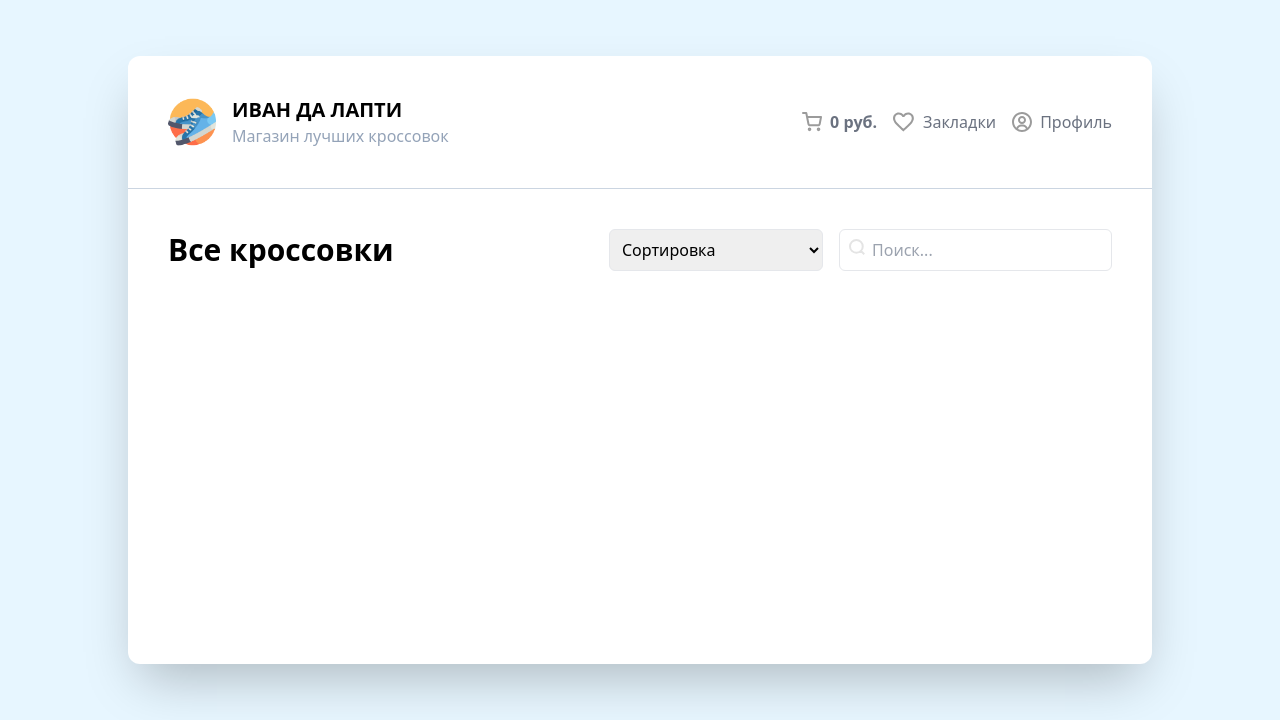
Test: Проверка работы корзины › Отображение пустой корзины и её закрытие
The width and height of the screenshot is (1280, 720).
Click the text with test id "header-price-sum". click: (854, 122)
box: x1=830 y1=110 x2=877 y2=134
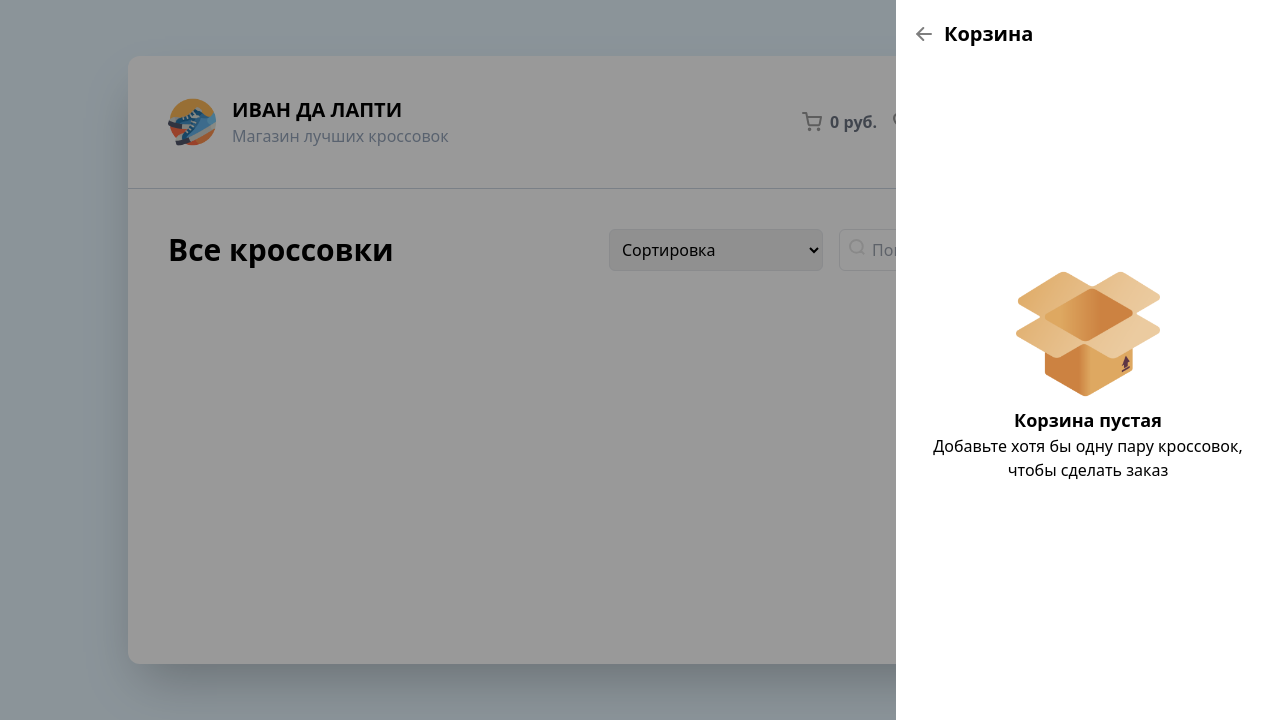
Now the element with test id "empty-cart" is shown, box x1=933 y1=262 x2=1243 y2=481
Click the icon with test id "close-cart". click: (924, 34)
box: x1=916 y1=27 x2=932 y2=41
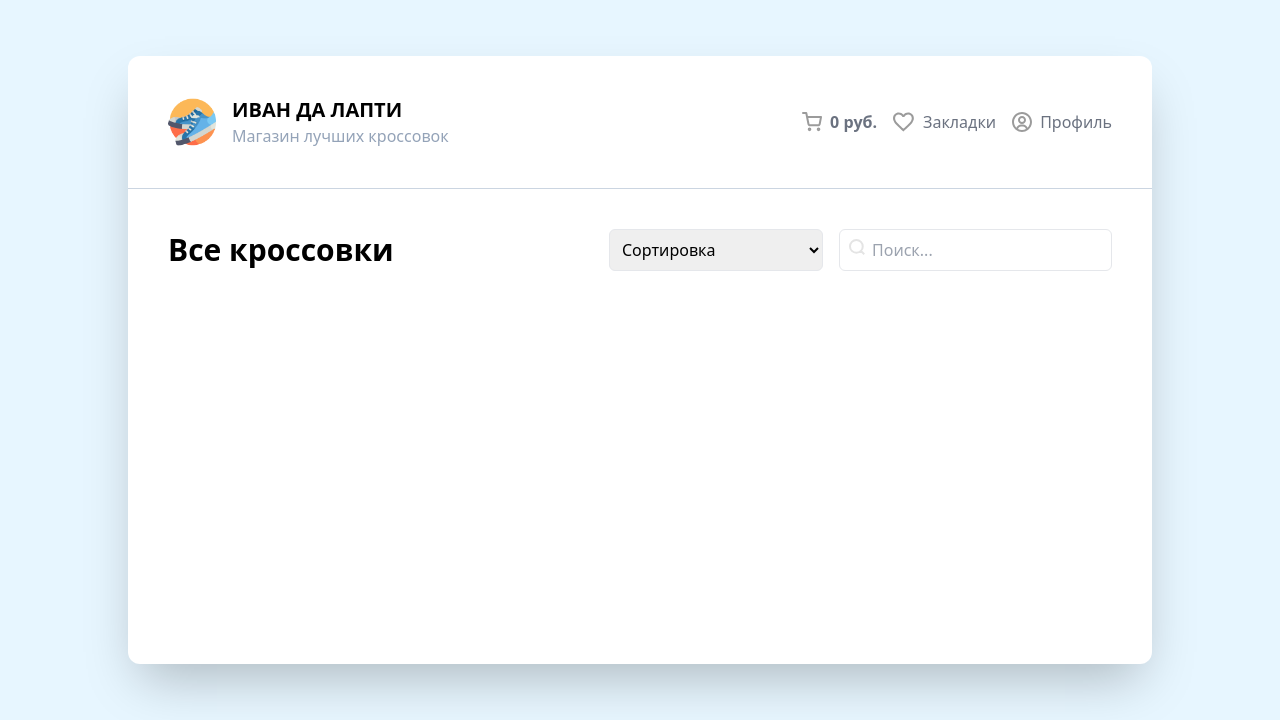
Now the element with test id "empty-cart" is gone
